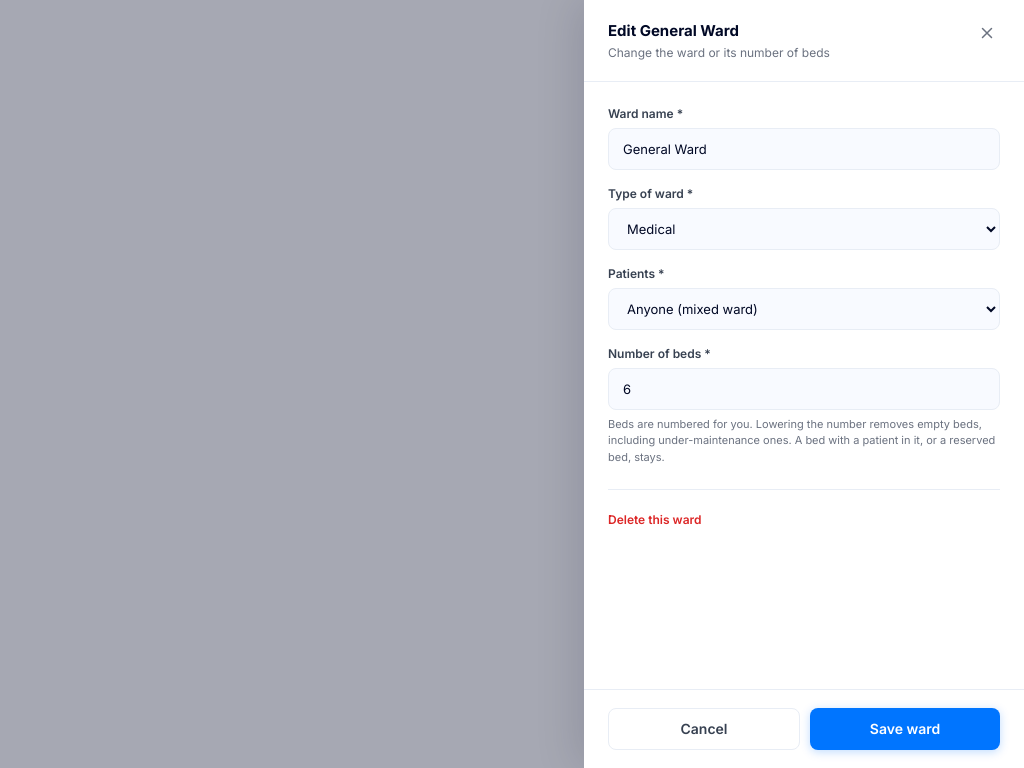
Test: FLAG-072 — edit and delete a ward › an emptied bed box is refused, never sent as 0
This screenshot has width=1024, height=768.
Clear the number field with id "ward-total-beds" at (804, 388), box [608,368,1000,410]
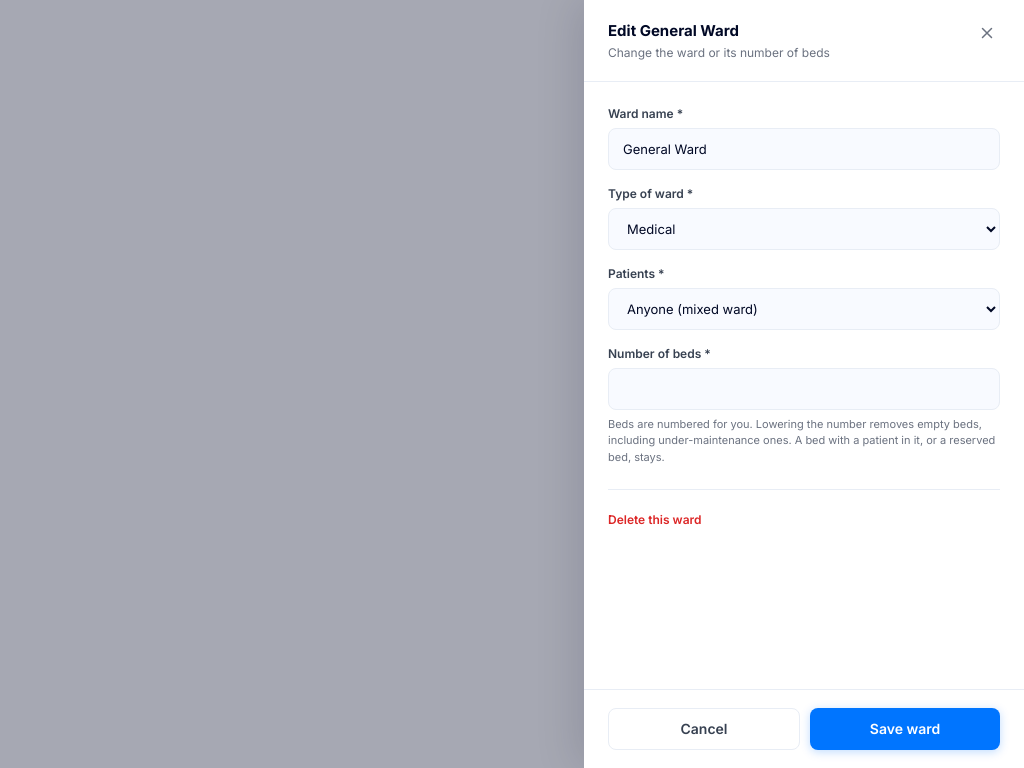
Click the button "Save ward" at (905, 729), box [810,708,1000,750]
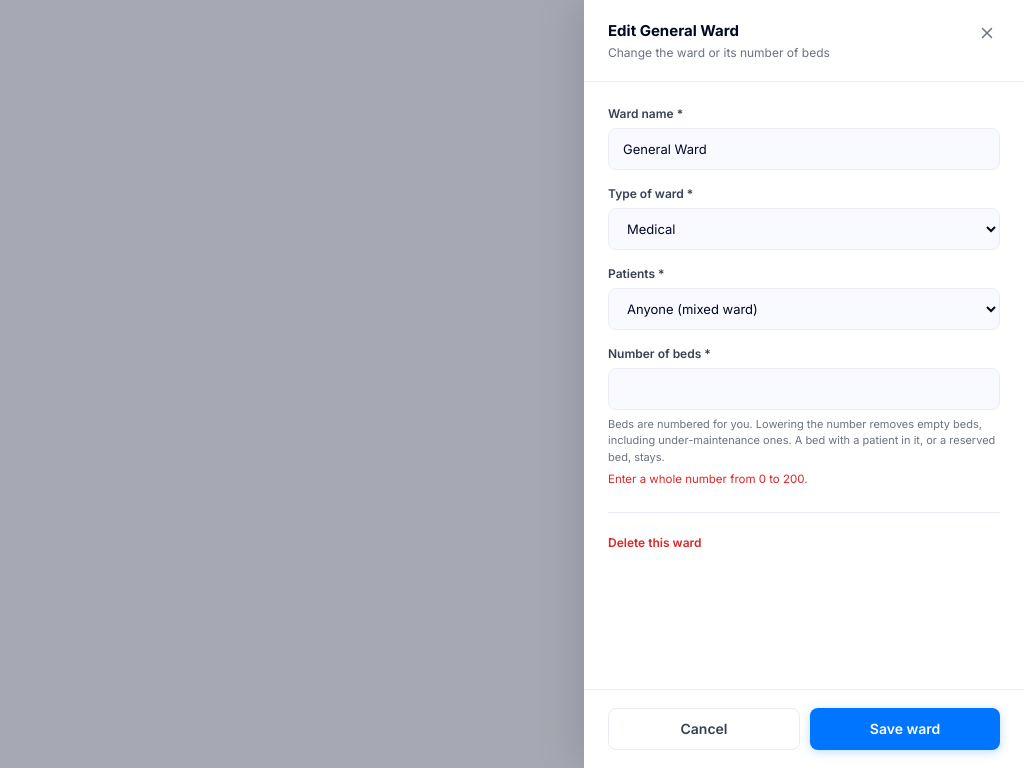
Expected: the text "Enter a whole number from 0 to 200." is shown, [608,472,808,486]
